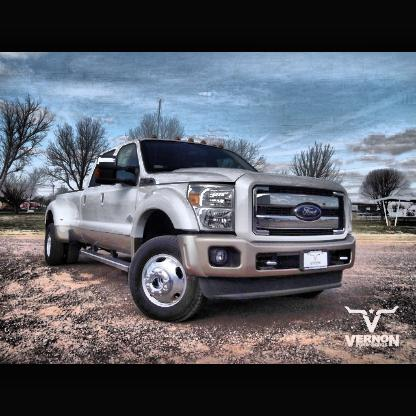Ford F-450 Super Duty Crew Cab 2012: (45, 136, 357, 325)
